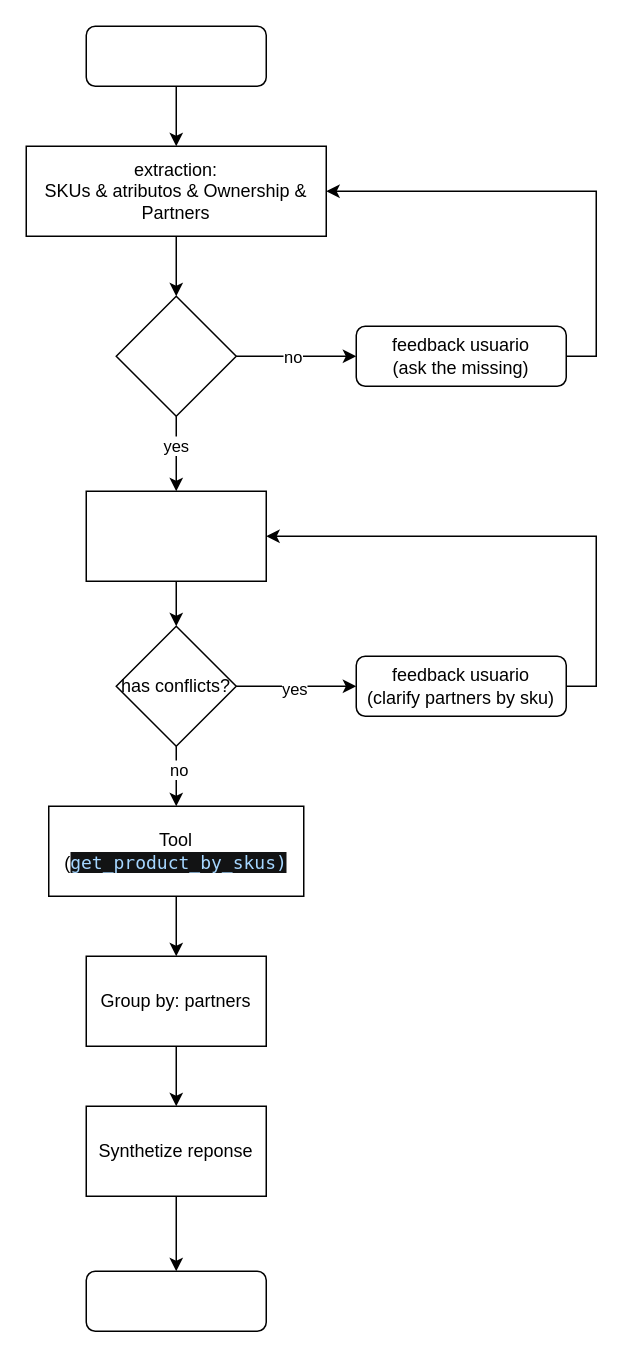
This 635x1358 diagram has some shape labels left out. Each missing label, with the centre of its shape:
"input" belongs at point 175,55.
"is success?" belongs at point 175,355.
"output" belongs at point 175,1300.
"same SKU share partners?" belongs at point 175,535.
